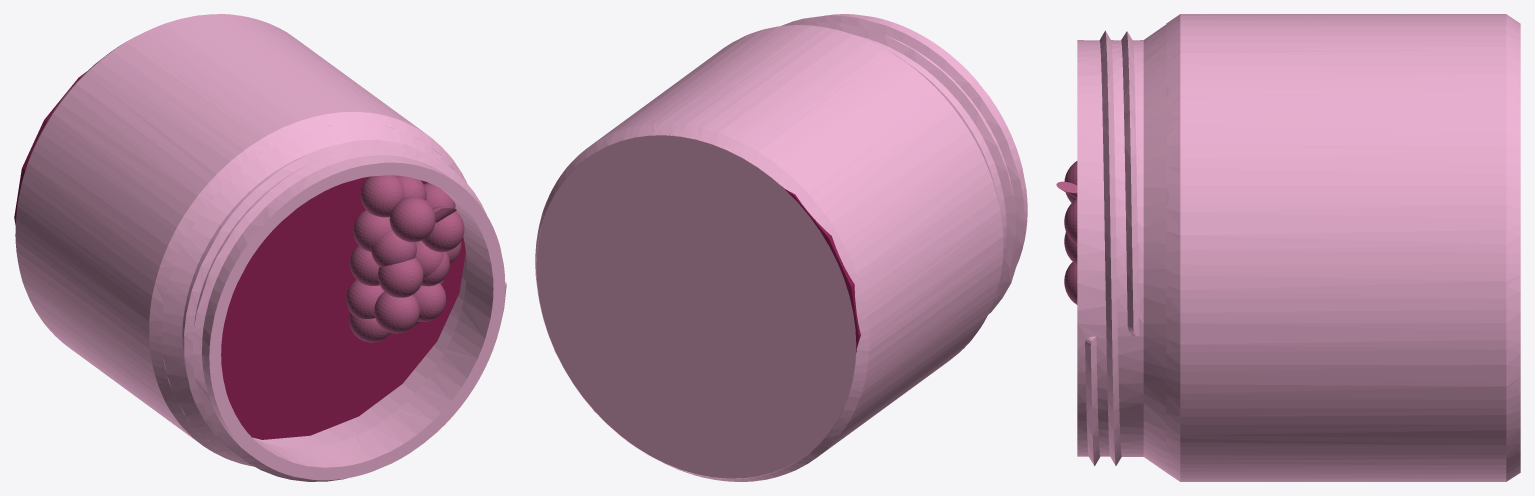
The model's file is tinker.obj.
3 views of the same model, side by side, from view 1: azimuth 30°, elevation 25°; view 2: azimuth 150°, elevation 25°; view 3: azimuth 270°, elevation 25° (orthographic). The views are drawn at different scales.
Visible parts, largest first — view 1: group_0_15708628, group_0_9444435, group_0_11229568; view 2: group_0_15708628, group_0_9444435; view 3: group_0_15708628, group_0_11229568.
Boxes of the visible parts, bbox=[...] form: group_0_15708628: bbox=[15, 14, 506, 481]; group_0_9444435: bbox=[14, 71, 465, 439]; group_0_11229568: bbox=[346, 175, 464, 342]; group_0_15708628: bbox=[535, 14, 1027, 481]; group_0_9444435: bbox=[781, 186, 860, 352]; group_0_15708628: bbox=[1077, 14, 1520, 481]; group_0_11229568: bbox=[1056, 161, 1077, 304].
Bounding box in the file's own units: 70 × 70 × 69.42.
